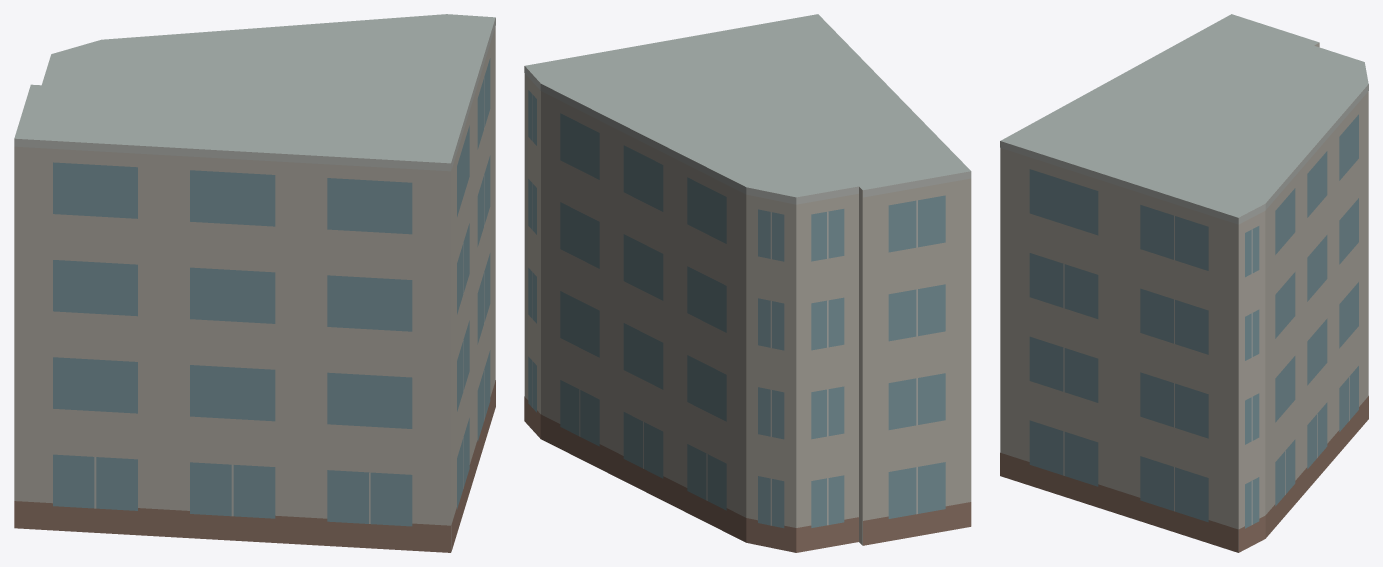
Rendered from survey-upis-32708726.glb.
3 renders of one model, left to right at view 1: azimuth 30°, elevation 25°; view 2: azimuth 150°, elevation 25°; view 3: azimuth 270°, elevation 25°, orthographic. The views are drawn at different scales.
Parts seen in each view (by area): view 1: survey-upis-32708726.tmp; view 2: survey-upis-32708726.tmp; view 3: survey-upis-32708726.tmp.
Boxes of the visible parts, left/top/right/bottom form: survey-upis-32708726.tmp: left=14, top=14, right=495, bottom=552; survey-upis-32708726.tmp: left=524, top=14, right=971, bottom=552; survey-upis-32708726.tmp: left=1000, top=14, right=1368, bottom=552.
Size of the model in its own units: 15.53 by 11.9 by 11.87.
